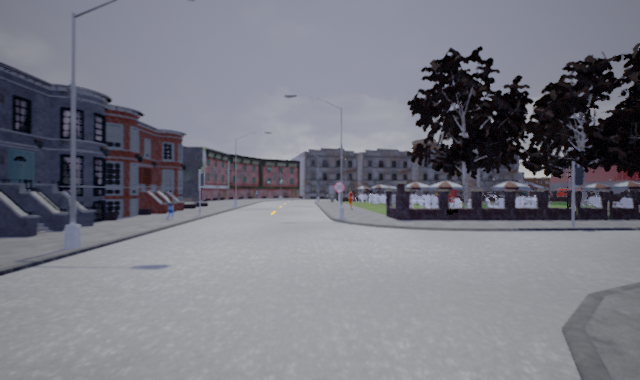pedestrian: (346, 186, 356, 211)
